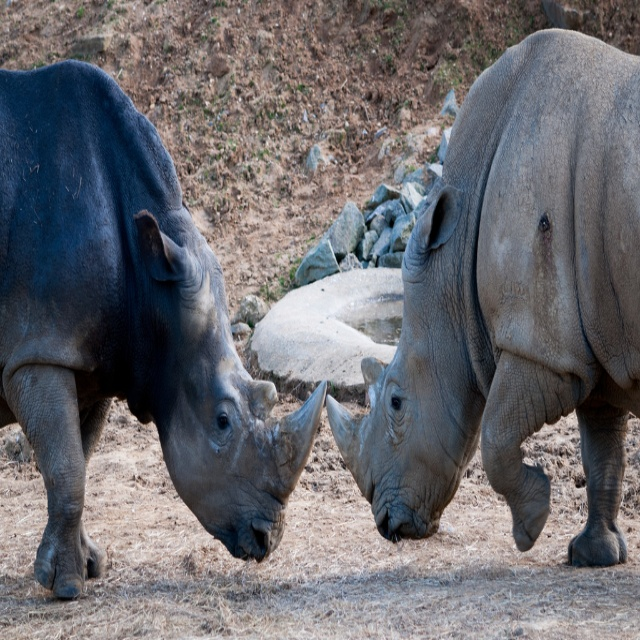Rhinoceros: (323, 21, 640, 573), (0, 56, 323, 593)
